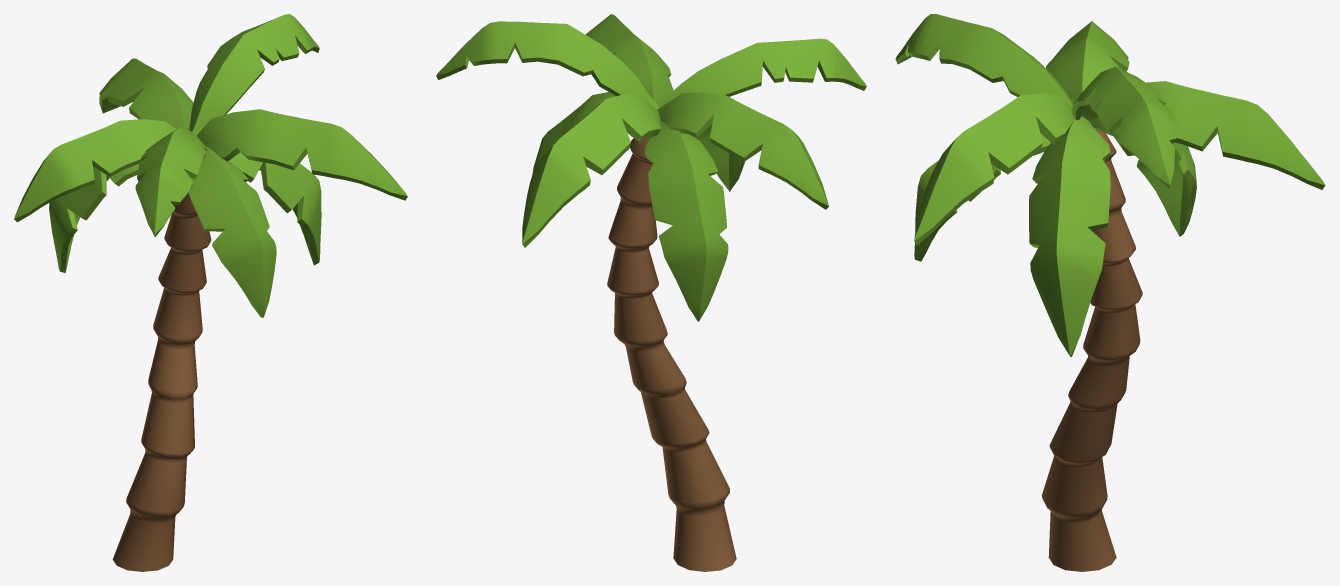
Rendered from environment_palm_tree_1.glb.
3 renders of one model, left to right at view 1: azimuth 30°, elevation 25°; view 2: azimuth 150°, elevation 25°; view 3: azimuth 270°, elevation 25°, orthographic. The views are drawn at different scales.
Parts seen in each view (by area): view 1: Environment_PalmTree_1; view 2: Environment_PalmTree_1; view 3: Environment_PalmTree_1.
Part boxes in pixels (box(x1,y1,x2,y2)): Environment_PalmTree_1: box(14, 14, 407, 571); Environment_PalmTree_1: box(436, 14, 866, 571); Environment_PalmTree_1: box(895, 14, 1325, 571).
Size of the model in its own units: 2.61 by 3.59 by 2.52.
1 material, 1 textured.
